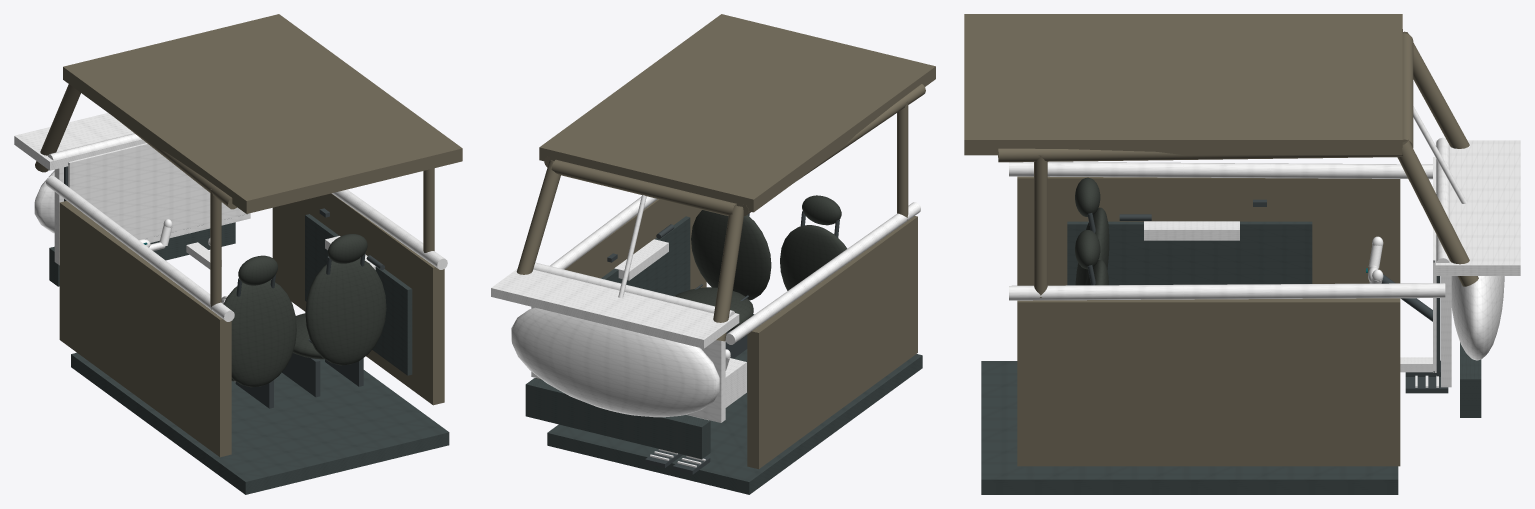
Rendered from original-cockpit.glb.
The picture shows the model from 3 angles, left to right: view 1: azimuth 30°, elevation 25°; view 2: azimuth 150°, elevation 25°; view 3: azimuth 270°, elevation 25°; orthographic projection. The views are drawn at different scales.
Visible parts, largest first — view 1: Roof, LeftLowerWall, Floor, RightLowerWall, PanelFrameBlack, RightSeatBack, LeftSeatBack, RightClothInset, GlareTop, LeftLowerRail, RightLowerRail, LowerKneePanel (+13 smaller); view 2: Roof, LeftLowerWall, PanelHousing, Floor, GlareTop, LowerKneePanel, RightSeatBack, RightLowerWall, LeftLowerRail, RightClothInset, WindshieldTopRail, LeftSeatBack (+12 smaller); view 3: RightLowerWall, Roof, LeftLowerWall, Floor, LeftClothInset, GlareTop, RightLowerRail, LeftLowerRail, PanelHousing, RightUpperRail, RightFrontPillar, LeftArmrest (+11 smaller).
Boxes of the visible parts, x1,y1,x2,y2 form: Roof: [63, 14, 462, 213]; LeftLowerWall: [59, 201, 231, 457]; Floor: [71, 352, 449, 494]; RightLowerWall: [272, 193, 444, 405]; PanelFrameBlack: [68, 143, 246, 239]; RightSeatBack: [305, 258, 386, 365]; LeftSeatBack: [223, 280, 296, 387]; RightClothInset: [305, 214, 412, 375]; GlareTop: [14, 113, 146, 170]; LeftLowerRail: [46, 176, 234, 321]; RightLowerRail: [332, 189, 447, 269]; LowerKneePanel: [49, 222, 235, 286]; Roof: [539, 14, 935, 212]; LeftLowerWall: [747, 216, 917, 469]; PanelHousing: [511, 307, 719, 417]; Floor: [547, 314, 922, 494]; GlareTop: [491, 269, 739, 348]; LowerKneePanel: [525, 378, 710, 459]; RightSeatBack: [691, 210, 771, 300]; RightLowerWall: [536, 199, 706, 379]; LeftLowerRail: [725, 202, 920, 344]; RightClothInset: [601, 216, 690, 296]; WindshieldTopRail: [551, 159, 736, 215]; LeftSeatBack: [780, 225, 847, 290]; RightLowerWall: [1017, 298, 1400, 466]; Roof: [964, 14, 1402, 155]; LeftLowerWall: [1017, 176, 1400, 285]; Floor: [981, 361, 1398, 494]; LeftClothInset: [1067, 221, 1312, 285]; GlareTop: [1435, 140, 1520, 275]; RightLowerRail: [1009, 283, 1445, 300]; LeftLowerRail: [1009, 162, 1432, 179]; PanelHousing: [1451, 276, 1504, 360]; RightUpperRail: [998, 148, 1402, 162]; RightFrontPillar: [1397, 139, 1478, 286]; LeftArmrest: [1144, 221, 1239, 240].
Bounding box in the file's own units: 1.46 × 1.86 × 2.62.
7 materials, 4 textured.
